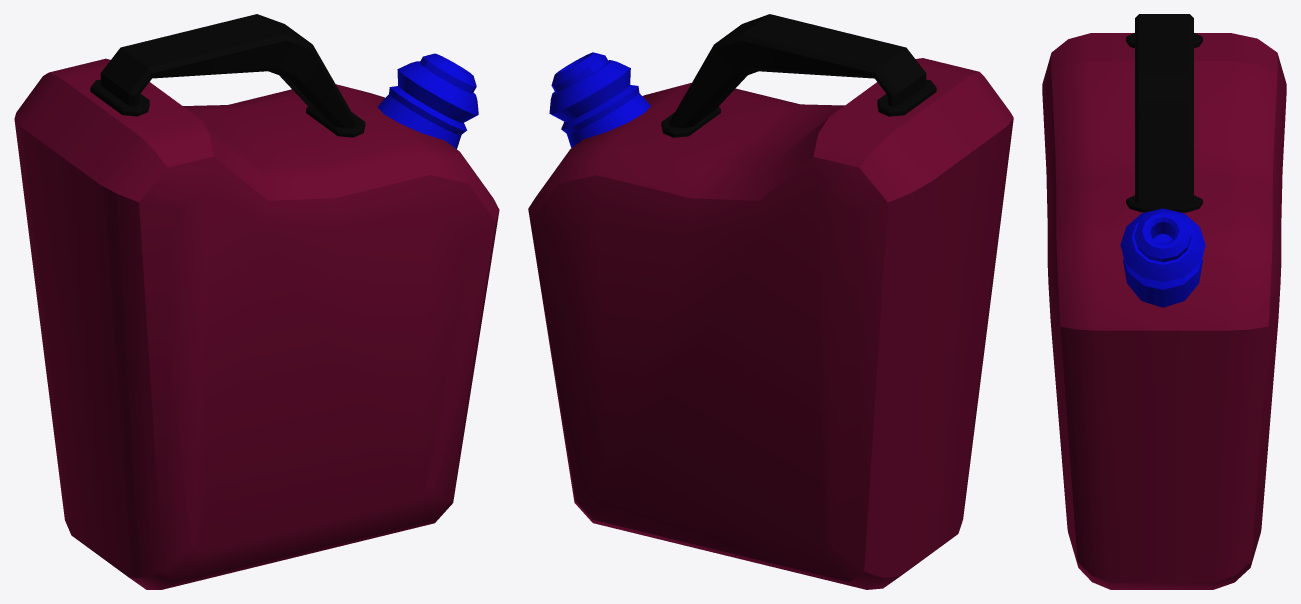
File: Canister.FBX
3 views of the same model, side by side, from view 1: azimuth 30°, elevation 25°; view 2: azimuth 150°, elevation 25°; view 3: azimuth 270°, elevation 25° (orthographic). The views are drawn at different scales.
Visible parts, largest first — view 1: Canister; view 2: Canister; view 3: Canister.
Part boxes in pixels (x1,y1,x2,y2): Canister: [14, 14, 499, 589]; Canister: [528, 14, 1013, 589]; Canister: [1042, 14, 1286, 589].
Size of the model in its own units: 877 by 497 by 1032.
